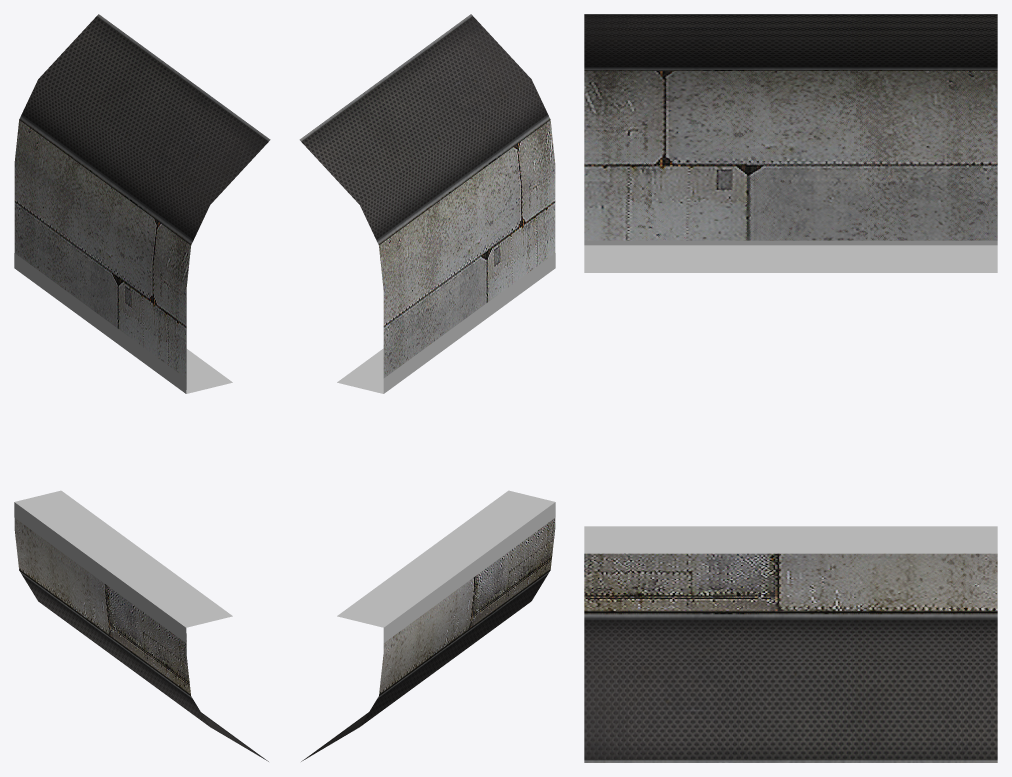
Rendered from Wall_B_Mid4mts_07.fbx.
The picture shows the model from 3 angles, left to right: view 1: azimuth 30°, elevation 25°; view 2: azimuth 150°, elevation 25°; view 3: azimuth 270°, elevation 25°; orthographic projection. The views are drawn at different scales.
Visible parts, largest first — view 1: Wall_B_Mid4mts_07; view 2: Wall_B_Mid4mts_07; view 3: Wall_B_Mid4mts_07.
Boxes of the visible parts, x1,y1,x2,y2 form: Wall_B_Mid4mts_07: [14, 14, 270, 761]; Wall_B_Mid4mts_07: [299, 14, 555, 761]; Wall_B_Mid4mts_07: [584, 14, 997, 762].
Bounding box in the file's own units: 56.75 × 400 × 200.
